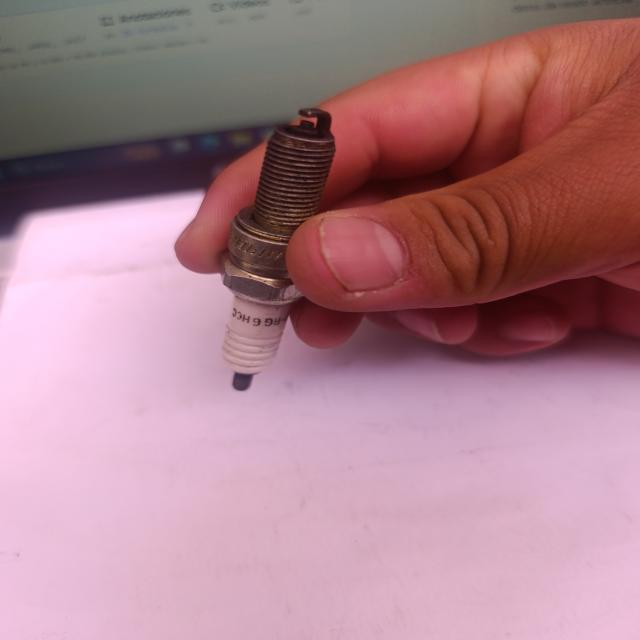bujia: (221, 108, 335, 390)
